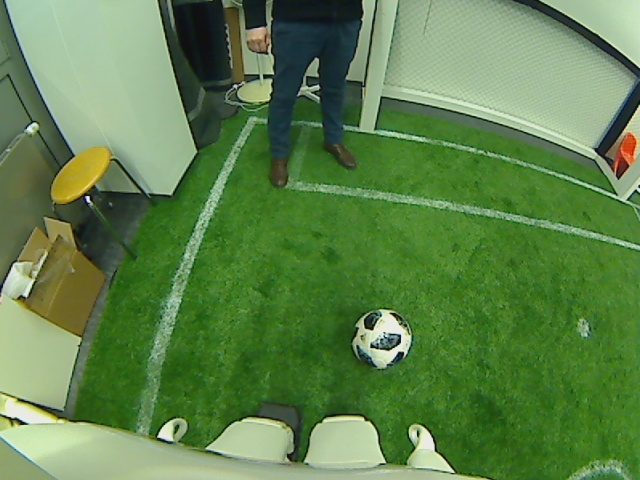ball: (349, 307, 414, 370)
